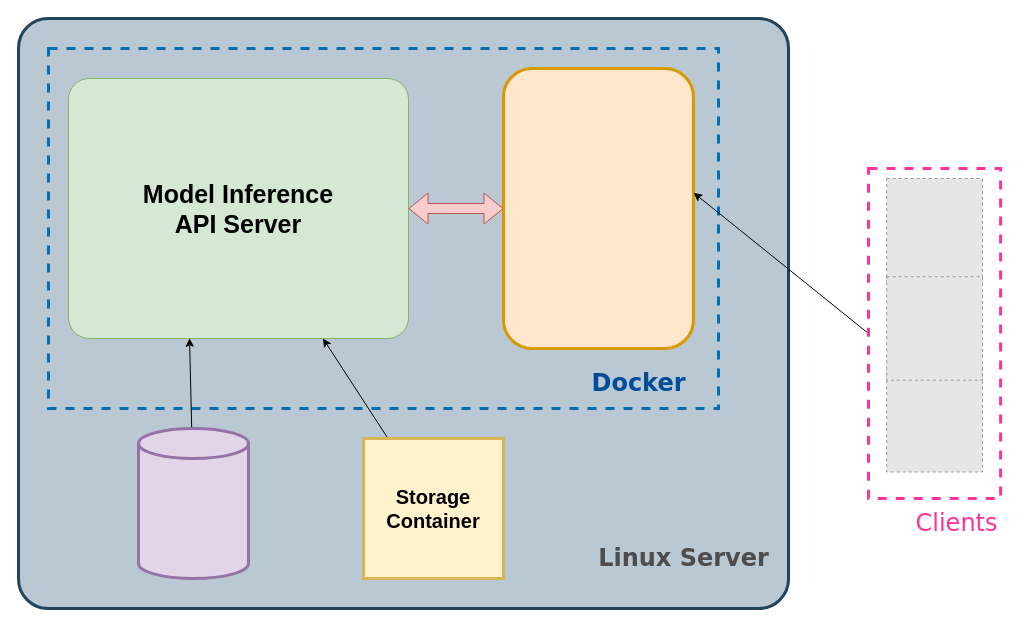
Some shapes in this 1024 by 627 pixel diagram are drawn without their labels. Grey dashed boxes stand in for pictures. Each missing label, with the centre of its shape:
Database: pixel 193 503
Streamlit Frontend Server: pixel 598 208
